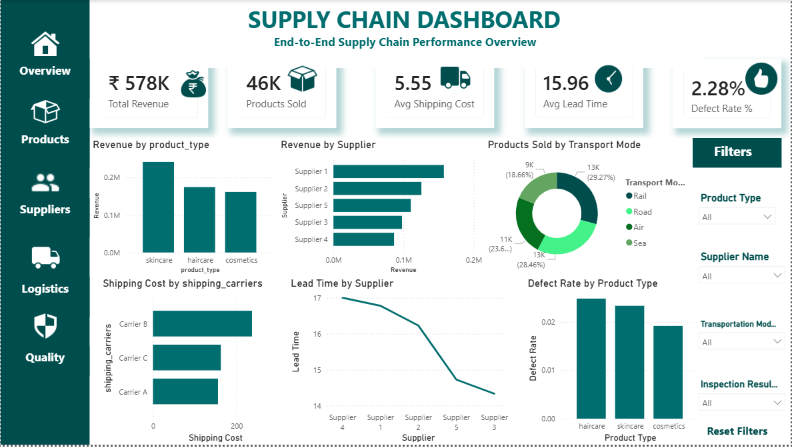

The dashboard page shown, as its layout file describes it:
{"tool":"powerbi","page":{"name":"Page 1","canvas":[1280,720],"ordinal":0},"visuals":[{"type":"cardVisual","fields":{"Data":["public supply_chain.Total Revenue"]},"box":[144,80,192,128],"z":0},{"type":"cardVisual","fields":{"Data":["public supply_chain.No. Of Products Sold"]},"box":[368,80,176,128],"z":1000},{"type":"cardVisual","fields":{"Data":["public supply_chain.Avg Shipping Cost"]},"box":[608,80,192,128],"z":2000},{"type":"cardVisual","fields":{"Data":["public supply_chain.Avg Lead Time"]},"box":[848,80,192,128],"z":3000},{"type":"cardVisual","fields":{"Data":["public supply_chain.Avg Defect Rate %"]},"box":[1088,96,176,112],"z":4000},{"type":"textbox","box":[108.5,0,1031.4,110.1],"z":5000},{"type":"clusteredColumnChart","fields":{"Category":["public supply_chain.product_type"],"Y":["public supply_chain.Total Revenue"]},"box":[144,224,304,224],"z":6000},{"type":"clusteredBarChart","fields":{"Y":["public supply_chain.Total Revenue"],"Category":["public supply_chain.supplier_name"]},"box":[448,224,336,224],"z":7000},{"type":"donutChart","fields":{"Category":["public supply_chain.transportation_modes"],"Y":["public supply_chain.No. Of Products Sold"]},"box":[784,224,336,224],"z":8000},{"type":"clusteredBarChart","fields":{"Category":["public supply_chain.shipping_carriers"],"Y":["Sum(public supply_chain.shipping_costs)"]},"box":[160,448,304,272],"z":9000},{"type":"lineChart","fields":{"Category":["public supply_chain.supplier_name"],"Y":["public supply_chain.Avg Lead Time"]},"box":[464,448,368,272],"z":10000},{"type":"clusteredColumnChart","fields":{"Category":["public supply_chain.product_type"],"Y":["public supply_chain.Avg Defect Rate %"]},"box":[848,448,288,272],"z":11000},{"type":"shape","box":[0,0,144,720],"z":12000},{"type":"textbox","box":[0,96,144,64],"z":13000},{"type":"textbox","box":[0,208,144,64],"z":14000},{"type":"textbox","box":[0,320,144,64],"z":15000},{"type":"textbox","box":[0,448,144,64],"z":16000},{"type":"textbox","box":[0,560,144,48],"z":17000},{"type":"textbox","box":[1120,224,144,48],"z":18000},{"type":"slicer","fields":{"Values":["public supply_chain.product_type"]},"box":[1120,304,144,80],"z":19000},{"type":"slicer","fields":{"Values":["public supply_chain.supplier_name"]},"box":[1120,400,160,80],"z":20000},{"type":"slicer","fields":{"Values":["public supply_chain.transportation_modes"]},"box":[1120,512,160,64],"z":21000},{"type":"slicer","fields":{"Values":["public supply_chain.inspection_results"]},"box":[1120,608,160,64],"z":22000},{"type":"actionButton","box":[1120,672,144,48],"z":23000},{"type":"image","box":[32,48,80,48],"z":24000},{"type":"image","box":[48,128,48,96],"z":25000},{"type":"image","box":[48,240,48,112],"z":26000},{"type":"image","box":[48,384,48,64],"z":27000},{"type":"image","box":[288,112,48,48],"z":28000},{"type":"image","box":[48,496,48,64],"z":29000},{"type":"image","box":[1200,80,64,96],"z":30000},{"type":"image","box":[960,96,48,64],"z":31000},{"type":"image","box":[704,96,64,48],"z":32000},{"type":"image","box":[464,96,48,64],"z":33000}]}

Visuals, with their boxes in screenshot pixels (x1, y1, x2, y2), scaled from the page's 1280x720 canvas onto the 792x448 screenshot:
cardVisual - public supply_chain.Total Revenue: pyautogui.locateOnScreen(89, 50, 208, 129)
cardVisual - public supply_chain.No. Of Products Sold: pyautogui.locateOnScreen(228, 50, 337, 129)
cardVisual - public supply_chain.Avg Shipping Cost: pyautogui.locateOnScreen(376, 50, 495, 129)
cardVisual - public supply_chain.Avg Lead Time: pyautogui.locateOnScreen(525, 50, 644, 129)
cardVisual - public supply_chain.Avg Defect Rate %: pyautogui.locateOnScreen(673, 60, 782, 129)
textbox: pyautogui.locateOnScreen(67, 0, 705, 69)
clusteredColumnChart - public supply_chain.product_type x public supply_chain.Total Revenue: pyautogui.locateOnScreen(89, 139, 277, 279)
clusteredBarChart - public supply_chain.Total Revenue x public supply_chain.supplier_name: pyautogui.locateOnScreen(277, 139, 485, 279)
donutChart - public supply_chain.transportation_modes x public supply_chain.No. Of Products Sold: pyautogui.locateOnScreen(485, 139, 693, 279)
clusteredBarChart - public supply_chain.shipping_carriers x Sum(public supply_chain.shipping_costs): pyautogui.locateOnScreen(99, 279, 287, 447)
lineChart - public supply_chain.supplier_name x public supply_chain.Avg Lead Time: pyautogui.locateOnScreen(287, 279, 515, 447)
clusteredColumnChart - public supply_chain.product_type x public supply_chain.Avg Defect Rate %: pyautogui.locateOnScreen(525, 279, 703, 447)
shape: pyautogui.locateOnScreen(0, 0, 89, 447)
textbox: pyautogui.locateOnScreen(0, 60, 89, 100)
textbox: pyautogui.locateOnScreen(0, 129, 89, 169)
textbox: pyautogui.locateOnScreen(0, 199, 89, 239)
textbox: pyautogui.locateOnScreen(0, 279, 89, 319)
textbox: pyautogui.locateOnScreen(0, 348, 89, 378)
textbox: pyautogui.locateOnScreen(693, 139, 782, 169)
slicer - public supply_chain.product_type: pyautogui.locateOnScreen(693, 189, 782, 239)
slicer - public supply_chain.supplier_name: pyautogui.locateOnScreen(693, 249, 791, 299)
slicer - public supply_chain.transportation_modes: pyautogui.locateOnScreen(693, 319, 791, 358)
slicer - public supply_chain.inspection_results: pyautogui.locateOnScreen(693, 378, 791, 418)
actionButton: pyautogui.locateOnScreen(693, 418, 782, 447)
image: pyautogui.locateOnScreen(20, 30, 69, 60)
image: pyautogui.locateOnScreen(30, 80, 59, 139)
image: pyautogui.locateOnScreen(30, 149, 59, 219)
image: pyautogui.locateOnScreen(30, 239, 59, 279)
image: pyautogui.locateOnScreen(178, 70, 208, 100)
image: pyautogui.locateOnScreen(30, 309, 59, 348)
image: pyautogui.locateOnScreen(742, 50, 782, 110)
image: pyautogui.locateOnScreen(594, 60, 624, 100)
image: pyautogui.locateOnScreen(436, 60, 475, 90)
image: pyautogui.locateOnScreen(287, 60, 317, 100)
